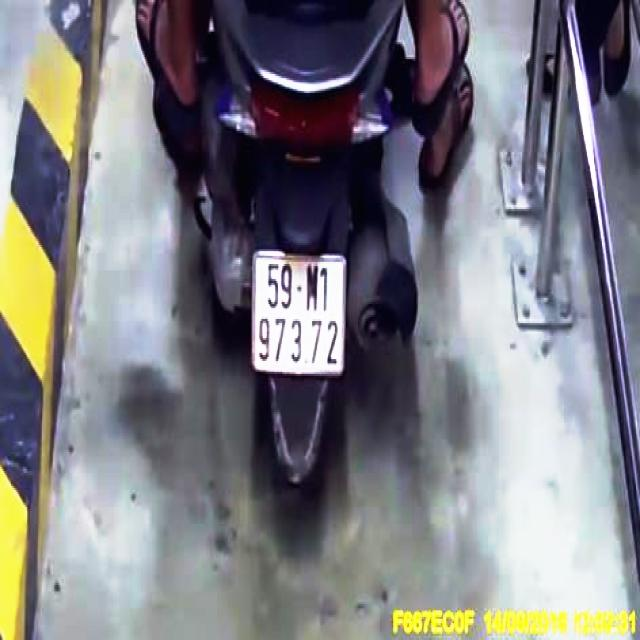license_plate: (255, 257, 346, 370)
